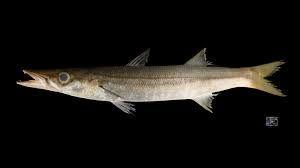Tenpounder: (20, 45, 287, 117)
